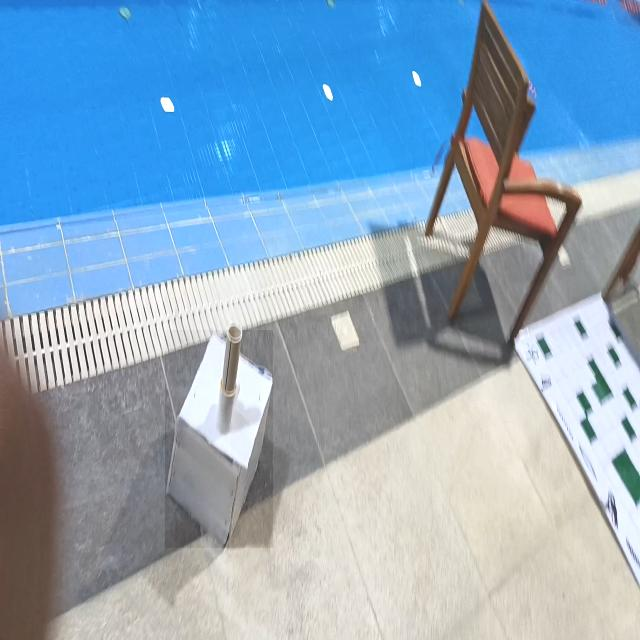Cube: (165, 330, 273, 548)
